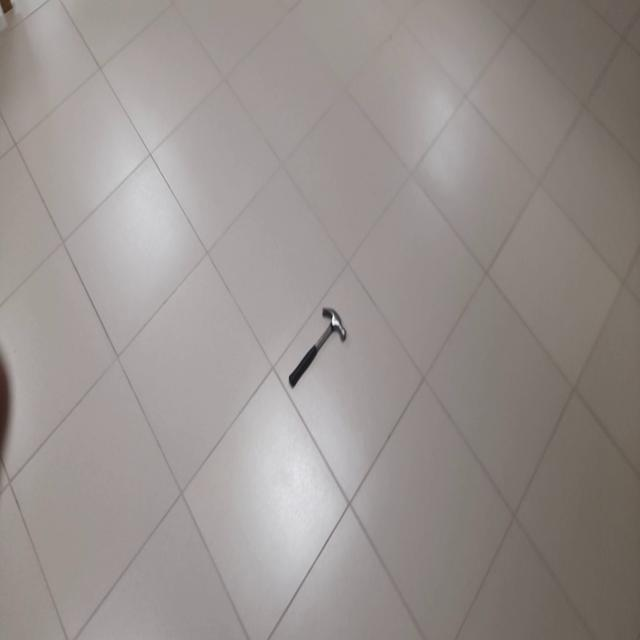hammer: (289, 306, 347, 388)
